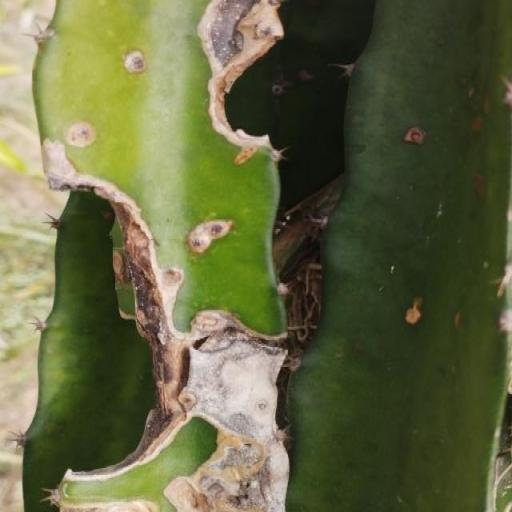stemcanker: (398, 116, 433, 153), (399, 287, 424, 336), (470, 165, 490, 203), (468, 112, 486, 137), (452, 306, 466, 333)
